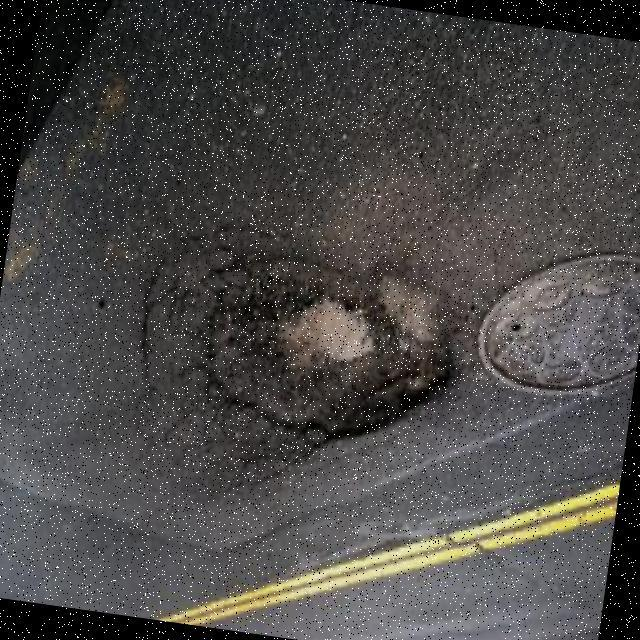Pothole: (207, 252, 455, 440)
